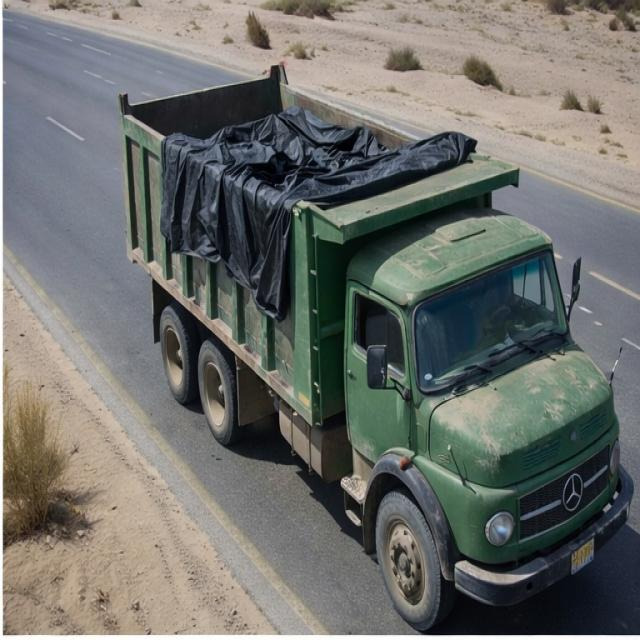trailer: (116, 58, 524, 244)
truck: (106, 46, 630, 630)
